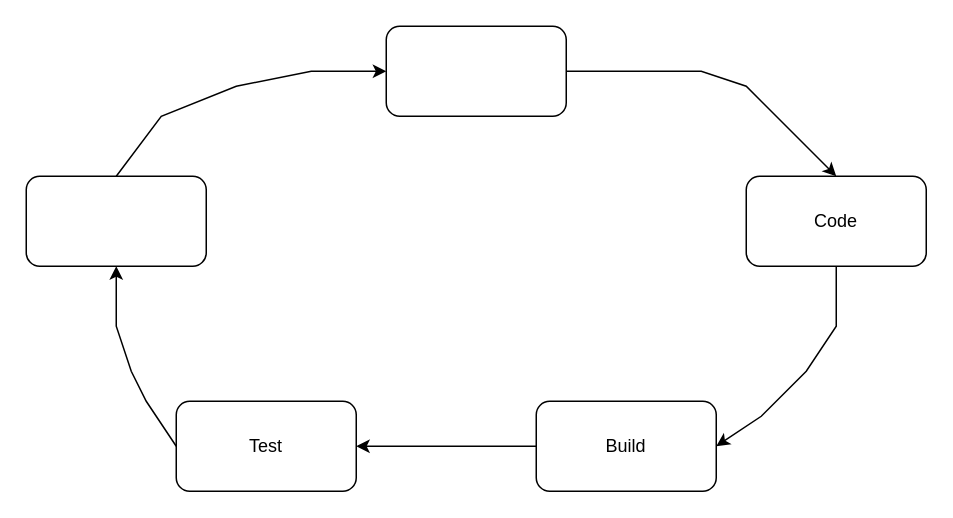
Some shapes in this 953 by 518 pixel diagram are drawn without their labels. The shapes that lost their labels are listed below. From the top down, each one's box as (x1, y1, x2, y2) in pixels, then its label:
(385, 25, 566, 116): Plan
(25, 175, 206, 266): Deploy
